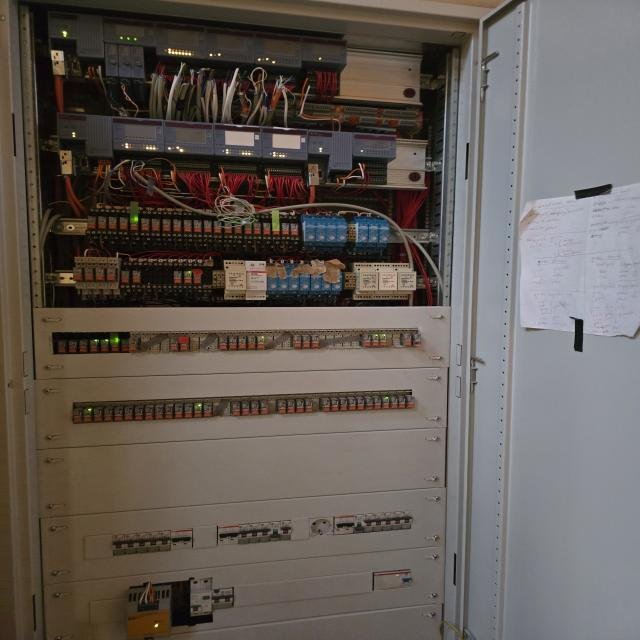Dimmer: (390, 263, 417, 299), (353, 263, 379, 300), (372, 263, 398, 300), (223, 260, 246, 300), (246, 261, 266, 300), (302, 216, 315, 246), (278, 263, 290, 294), (299, 263, 310, 294), (335, 218, 347, 246), (354, 218, 368, 242), (267, 264, 278, 294), (325, 218, 337, 245), (311, 263, 321, 295), (332, 264, 342, 294), (321, 264, 331, 294), (289, 264, 299, 294), (316, 217, 326, 246), (368, 218, 379, 243), (379, 223, 390, 243)
FI: (372, 570, 413, 590)
FI_Sicherungskombi: (189, 580, 212, 615)
Leitungsschutzschalter: (148, 532, 160, 552), (125, 534, 136, 555), (113, 536, 125, 555), (217, 526, 229, 545), (182, 529, 193, 549), (222, 588, 233, 608), (160, 531, 171, 550), (171, 530, 182, 549), (249, 524, 260, 543), (280, 521, 291, 540), (137, 533, 147, 553), (239, 524, 249, 544), (260, 522, 270, 542), (212, 589, 222, 609), (334, 516, 345, 534), (270, 522, 280, 541), (229, 526, 239, 544), (354, 515, 364, 533), (392, 512, 402, 530), (402, 511, 412, 529), (364, 514, 373, 533), (382, 513, 392, 530), (345, 516, 354, 534), (374, 514, 383, 531)
Relais: (129, 338, 139, 352), (106, 268, 116, 281), (292, 335, 302, 348), (360, 334, 370, 347), (412, 333, 422, 346), (93, 409, 103, 422), (73, 267, 82, 281), (84, 267, 93, 281), (170, 337, 179, 351), (241, 402, 250, 416), (321, 398, 330, 412), (172, 220, 182, 232), (95, 268, 105, 280), (110, 339, 120, 351), (402, 334, 412, 346), (134, 408, 144, 420), (154, 407, 164, 419), (108, 217, 117, 230), (141, 218, 150, 231), (132, 270, 141, 283), (247, 336, 256, 349), (256, 336, 265, 349), (310, 335, 319, 348), (73, 410, 82, 423), (104, 409, 113, 422), (145, 407, 154, 420), (184, 405, 193, 418), (180, 337, 188, 351), (130, 218, 139, 230), (183, 220, 192, 232), (125, 408, 134, 420), (88, 216, 96, 229), (98, 216, 106, 229), (120, 217, 128, 230), (162, 219, 170, 232), (194, 220, 202, 233), (204, 220, 212, 233), (214, 221, 222, 234), (263, 222, 271, 235), (272, 222, 280, 235), (290, 223, 298, 236), (184, 271, 192, 284), (193, 271, 201, 284), (58, 340, 66, 353), (68, 341, 76, 354), (90, 340, 98, 353), (219, 337, 227, 350), (228, 336, 236, 349), (238, 336, 246, 349), (302, 335, 310, 348), (371, 334, 379, 347), (379, 334, 387, 347), (114, 408, 122, 421), (165, 406, 173, 419), (204, 404, 212, 417), (232, 403, 240, 416), (331, 398, 339, 411), (348, 398, 356, 411), (365, 397, 373, 410), (390, 396, 398, 409), (398, 396, 406, 409), (152, 219, 160, 231), (244, 222, 252, 234), (281, 223, 289, 235), (121, 271, 129, 283), (174, 272, 182, 284), (80, 340, 88, 352), (100, 340, 108, 352), (84, 410, 92, 422), (194, 405, 202, 417), (250, 402, 258, 414), (260, 402, 268, 414), (278, 401, 286, 413), (287, 401, 295, 413), (296, 400, 304, 412), (305, 400, 313, 412), (373, 397, 381, 409), (406, 396, 414, 408), (121, 339, 128, 352), (340, 398, 347, 411), (382, 396, 389, 409), (234, 222, 242, 233), (253, 223, 261, 234), (225, 222, 232, 234), (175, 406, 182, 418), (357, 398, 364, 410)
SPS-System -Steuerungskomponente-: (155, 22, 206, 59), (112, 116, 164, 152), (205, 26, 255, 63), (56, 112, 113, 143), (164, 120, 213, 156), (254, 32, 302, 68), (213, 122, 261, 158), (48, 10, 103, 41), (261, 126, 308, 161), (102, 16, 155, 47), (302, 36, 347, 65), (308, 129, 353, 156), (354, 133, 396, 159)
Verbinder: (212, 270, 225, 288), (344, 272, 356, 289), (346, 224, 355, 242)
